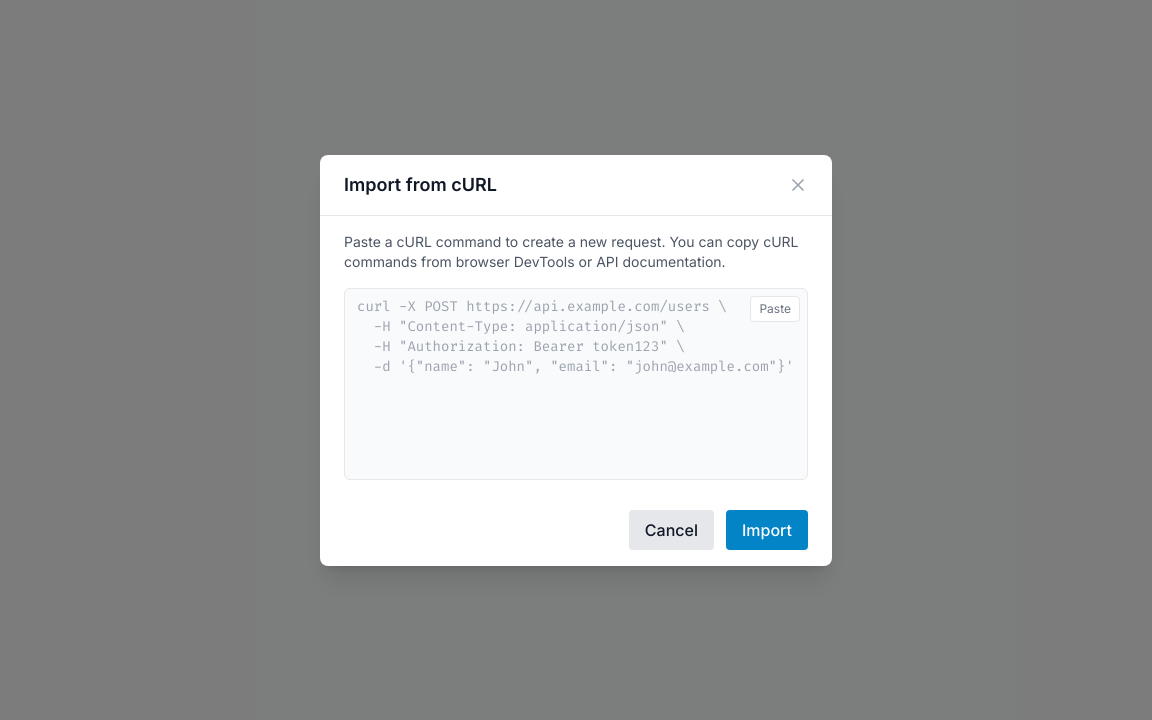
Test case: ImportCurlDialog › import functionality › should not close dialog on import failure
The width and height of the screenshot is (1152, 720).
Type "curl https://example.com" into the text box with placeholder "curl -X POST" at (576, 384), box [344, 288, 808, 480]
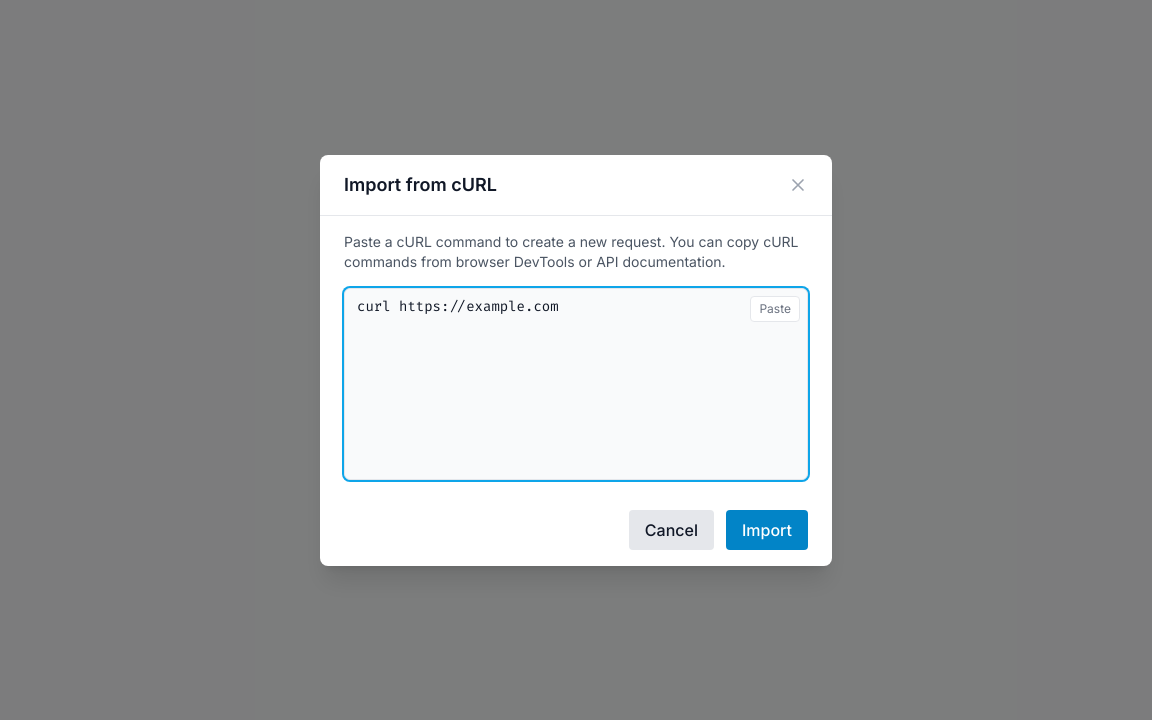
Click the button "Import" at (767, 530), box [726, 510, 808, 550]
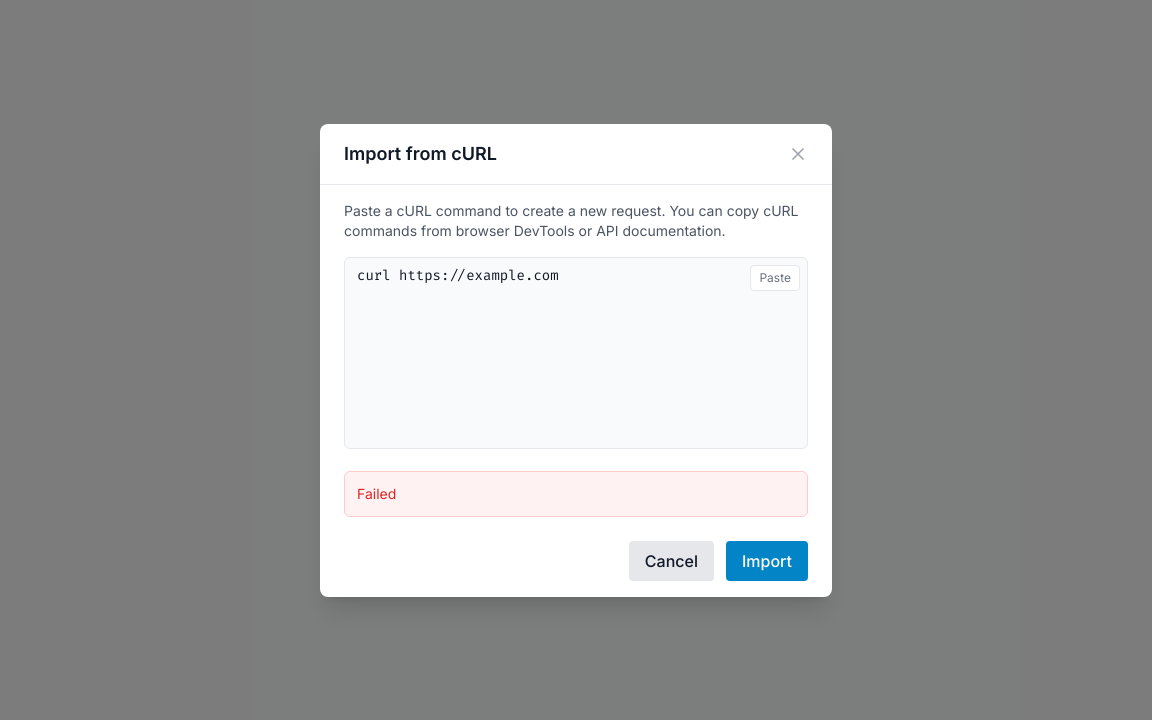
Expected: the text "Failed" is shown, [344, 470, 808, 516]
